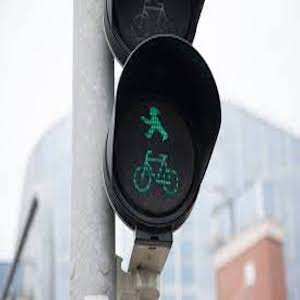green: (128, 98, 182, 193)
